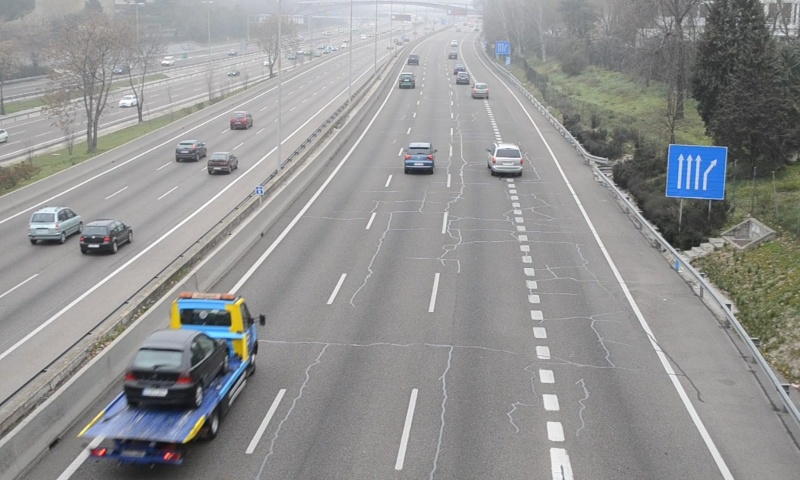car: (490, 142, 524, 176), (402, 142, 434, 172), (470, 82, 489, 100), (400, 72, 414, 89)
small-truck: (78, 291, 258, 460)
